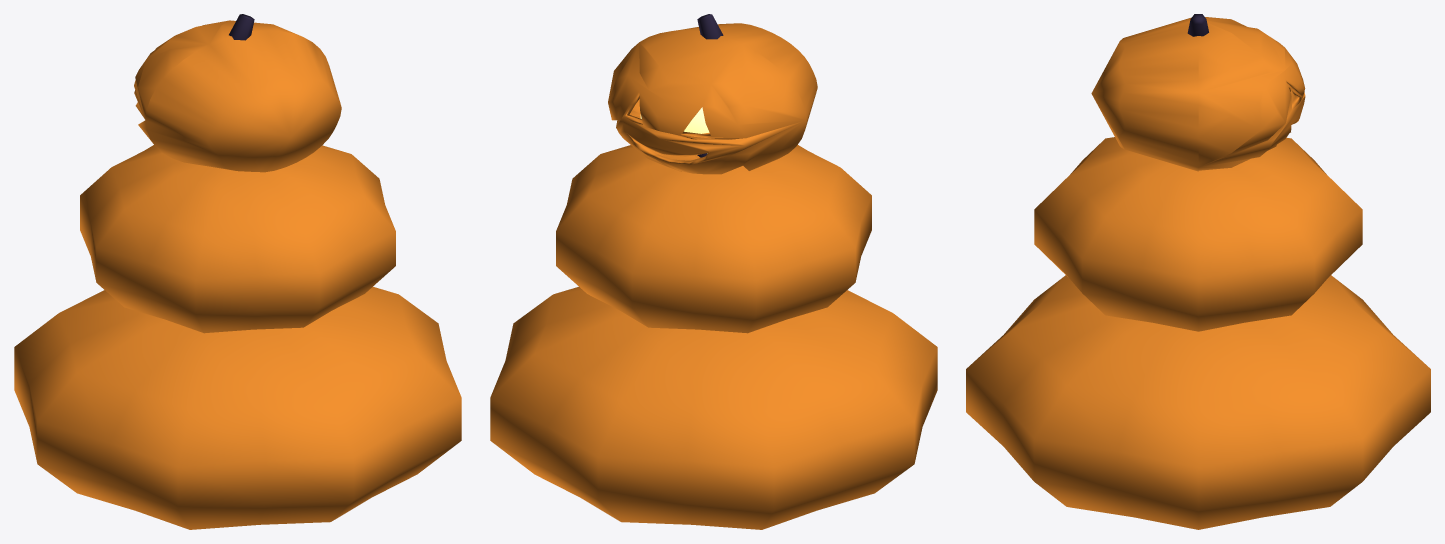
The model's file is pumpkin_stack.glb.
The picture shows the model from 3 angles, left to right: view 1: azimuth 30°, elevation 25°; view 2: azimuth 150°, elevation 25°; view 3: azimuth 270°, elevation 25°; orthographic projection.
Size of the model in its own units: 0.6948 by 0.7842 by 0.6948.
